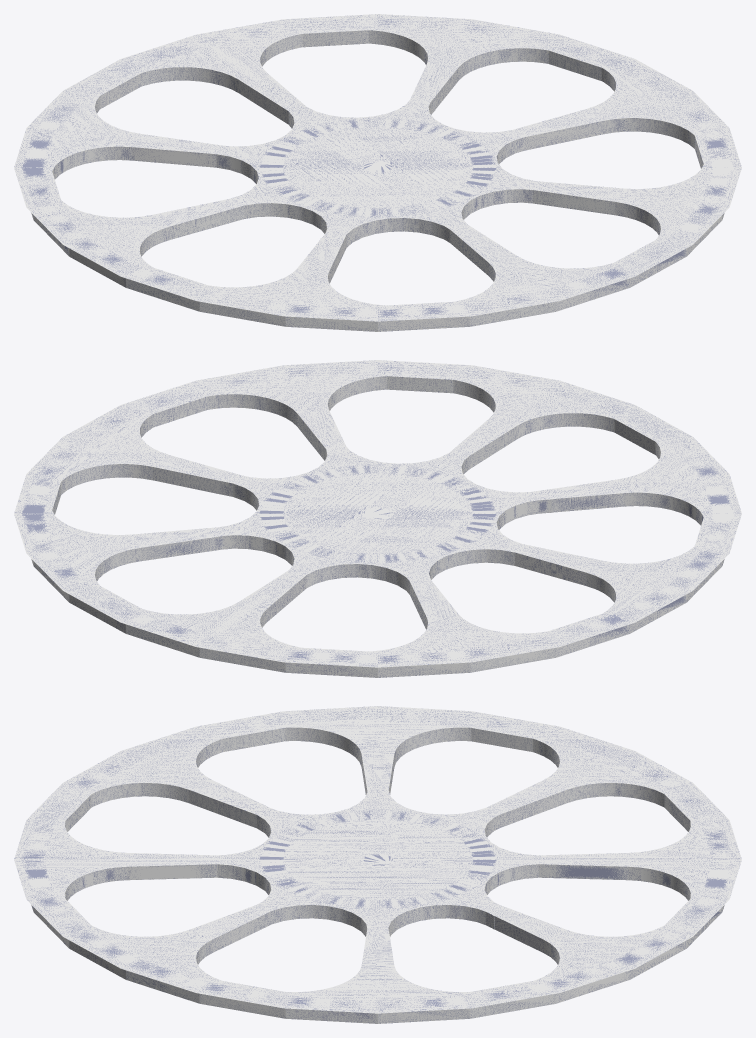
Rendered from base-design-gravity-wheel.fbx.
The picture shows the model from 3 angles, top to bottom: view 1: azimuth 30°, elevation 25°; view 2: azimuth 150°, elevation 25°; view 3: azimuth 270°, elevation 25°; orthographic projection.
Parts seen in each view (by area): view 1: Model; view 2: Model; view 3: Model.
Part boxes in pixels (left/top/right/bottom): Model: left=14, top=14, right=741, bottom=331; Model: left=14, top=360, right=741, bottom=677; Model: left=14, top=706, right=741, bottom=1023.
Bounding box in the file's own units: 24.5 × 0.5 × 24.5.
